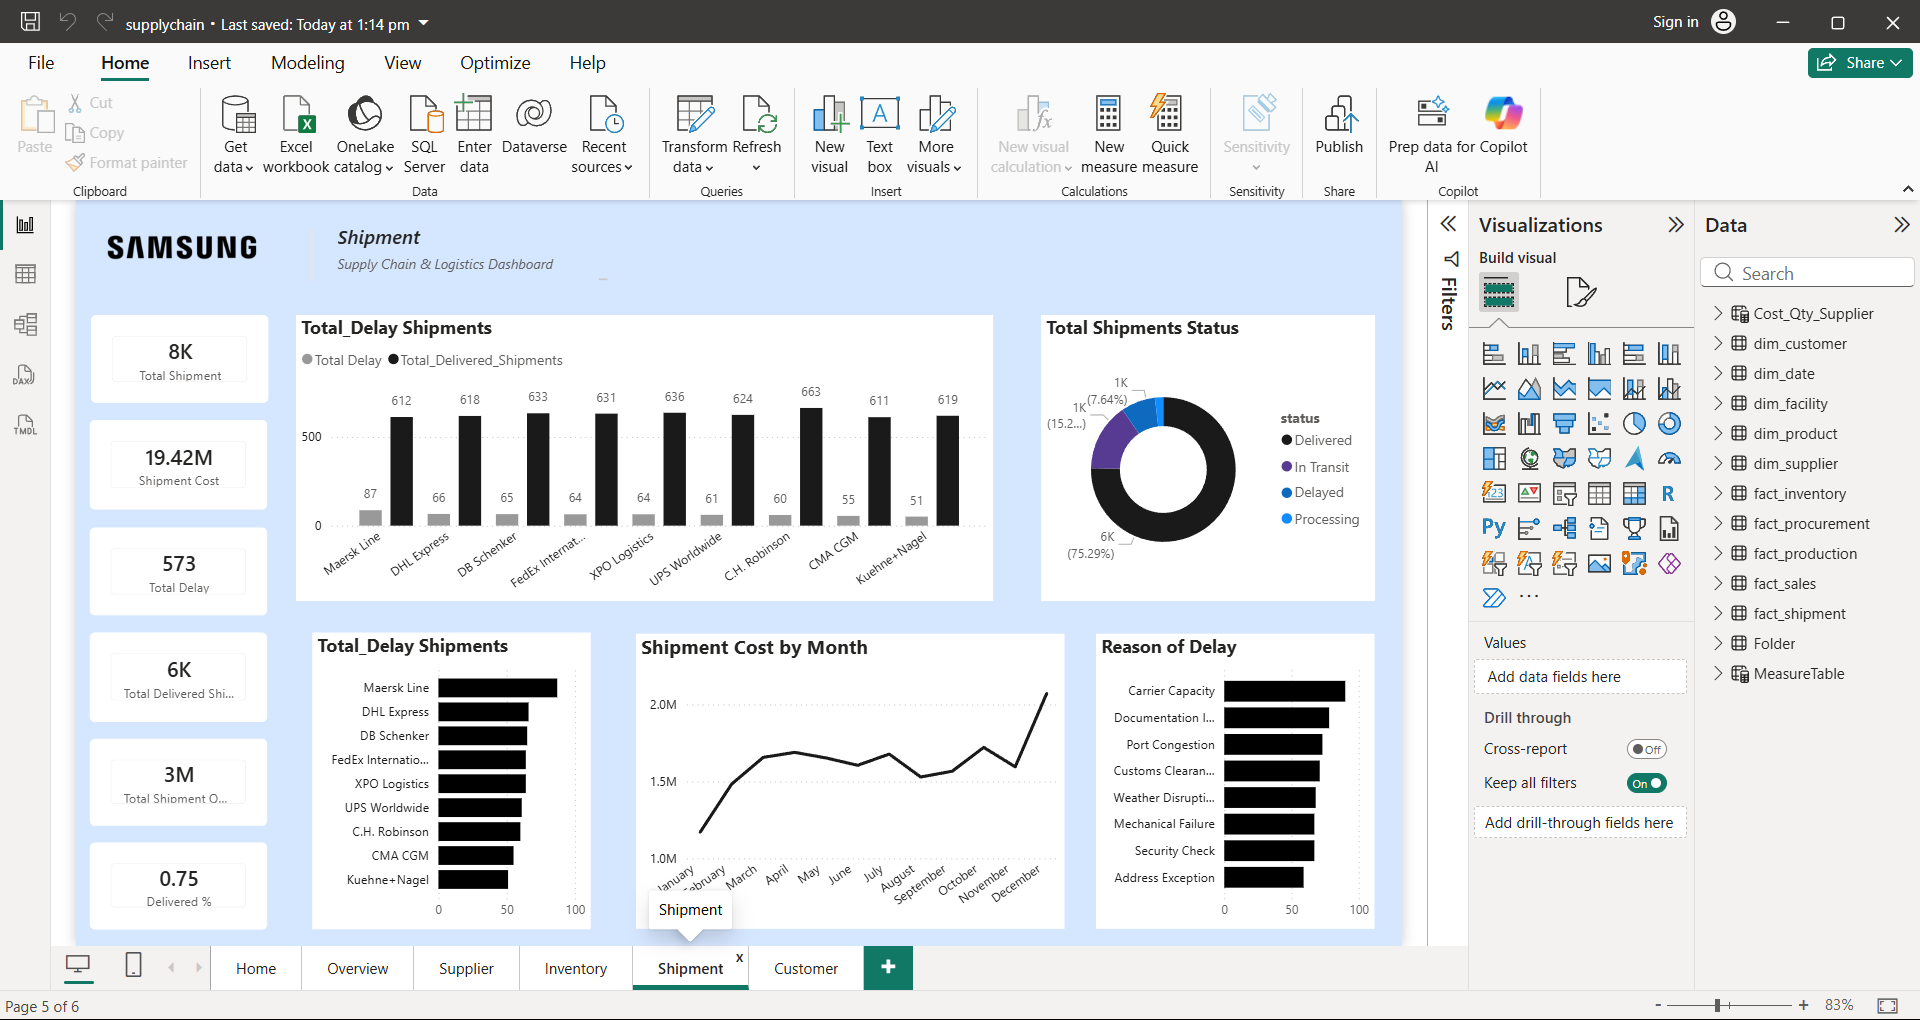

Layout of this report page (visuals, bound fields, positions):
{"tool":"powerbi","page":{"name":"Shipment","canvas":[1280,720],"ordinal":4},"visuals":[{"type":"textbox","title":"Shipment","box":[247.3,22.9,270.2,59.1],"z":0},{"type":"shape","box":[181,29,92.9,49.5],"z":1000},{"type":"image","box":[19.3,8.4,159.3,73.6],"z":2000},{"type":"cardVisual","fields":{"Data":["MeasureTable.Shipment Cost"]},"box":[13.8,212.8,171.2,86.2],"z":3000},{"type":"cardVisual","fields":{"Data":["MeasureTable.Total_Delay"]},"box":[13.8,315.5,171.2,85],"z":4000},{"type":"cardVisual","fields":{"Data":["MeasureTable.Total_Delivered_Shipments"]},"box":[13.8,417,171.2,86.2],"z":5000},{"type":"cardVisual","fields":{"Data":["MeasureTable.Total_Shipment_Quantity"]},"box":[13.8,519.8,171.2,83.8],"z":6000},{"type":"cardVisual","fields":{"Data":["MeasureTable.Delivered %"]},"box":[13.8,620,171.2,83.8],"z":7000},{"type":"cardVisual","fields":{"Data":["MeasureTable.Total Shipment"]},"box":[15,111.2,171.2,85],"z":8000},{"type":"barChart","title":"Total_Delay Shipments","fields":{"Category":["fact_shipment.carrier"],"Y":["MeasureTable.Total_Delay"]},"box":[227.5,417.5,268.8,286.2],"z":9000},{"type":"lineClusteredColumnComboChart","title":"Total_Delay Shipments","fields":{"Category":["fact_shipment.carrier"],"Y":["MeasureTable.Total_Delay","MeasureTable.Total_Delivered_Shipments"]},"box":[212.5,111.2,672.5,276.2],"z":10000},{"type":"lineChart","title":"Shipment Cost by Month","fields":{"Y":["MeasureTable.Shipment Cost"],"Category":["dim_date.month_name"]},"box":[540,418.8,413.8,285],"z":11000},{"type":"barChart","title":"Reason of Delay","fields":{"Category":["fact_shipment.delay_reason"],"Y":["MeasureTable.Total_Delay"]},"box":[985,418.8,268.8,285],"z":12000},{"type":"donutChart","title":"Total Shipments Status","fields":{"Category":["fact_shipment.status"],"Y":["MeasureTable.Total Shipment"]},"box":[931.2,111.2,322.5,276.2],"z":13000},{"type":"pageNavigator","box":[588.7,36.2,664.7,35],"z":13001}]}

Visuals, with their boxes on the page's 1280x720 design canvas (x1, y1, x2, y2). These are canvas units, not pixel positions in the 1920x1020 screenshot, which may show the page scaled, cropped or inside an application window:
"Shipment" textbox: 247 23 518 82
shape: 181 29 274 78
image: 19 8 179 82
cardVisual - MeasureTable.Shipment Cost: 14 213 185 299
cardVisual - MeasureTable.Total_Delay: 14 316 185 400
cardVisual - MeasureTable.Total_Delivered_Shipments: 14 417 185 503
cardVisual - MeasureTable.Total_Shipment_Quantity: 14 520 185 604
cardVisual - MeasureTable.Delivered %: 14 620 185 704
cardVisual - MeasureTable.Total Shipment: 15 111 186 196
"Total_Delay Shipments" barChart: 228 418 496 704
"Total_Delay Shipments" lineClusteredColumnComboChart: 212 111 885 387
"Shipment Cost by Month" lineChart: 540 419 954 704
"Reason of Delay" barChart: 985 419 1254 704
"Total Shipments Status" donutChart: 931 111 1254 387
pageNavigator: 589 36 1253 71
